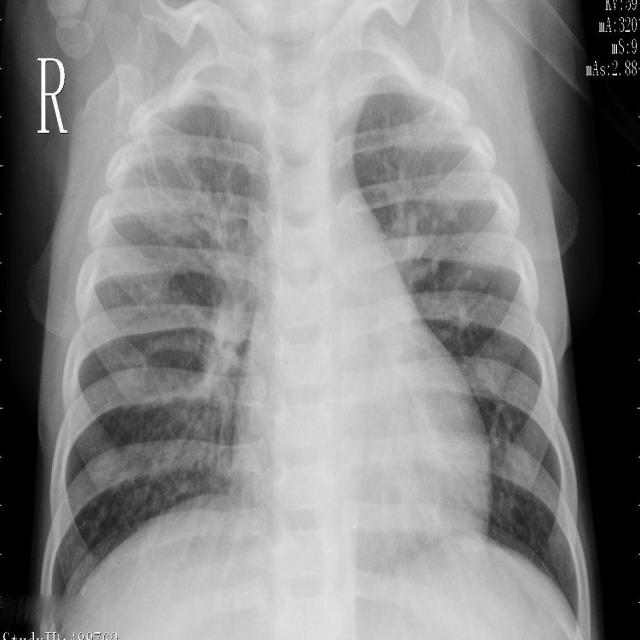low-pneumonia: (180, 184, 259, 421), (381, 168, 460, 323)
